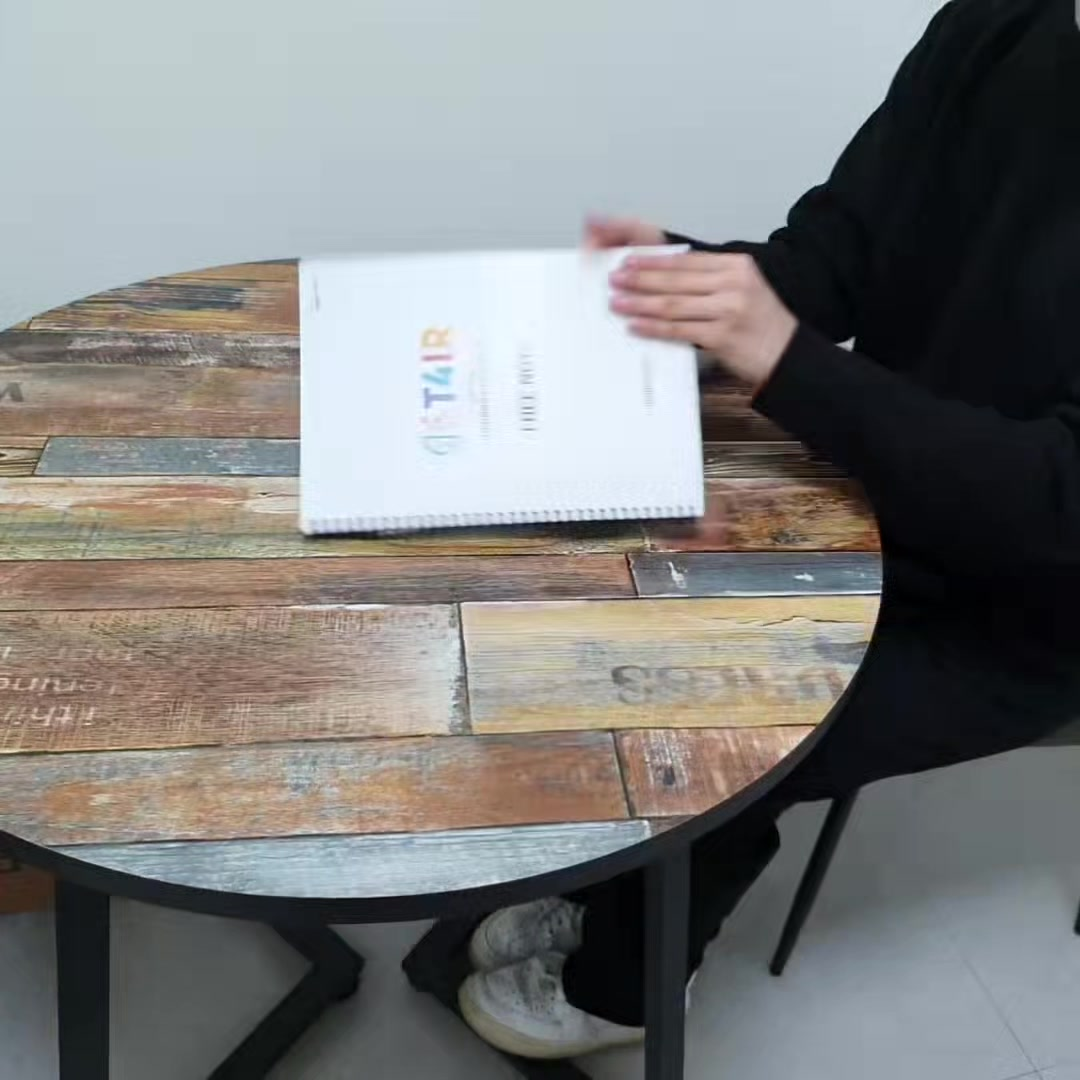book: (289, 235, 716, 535)
